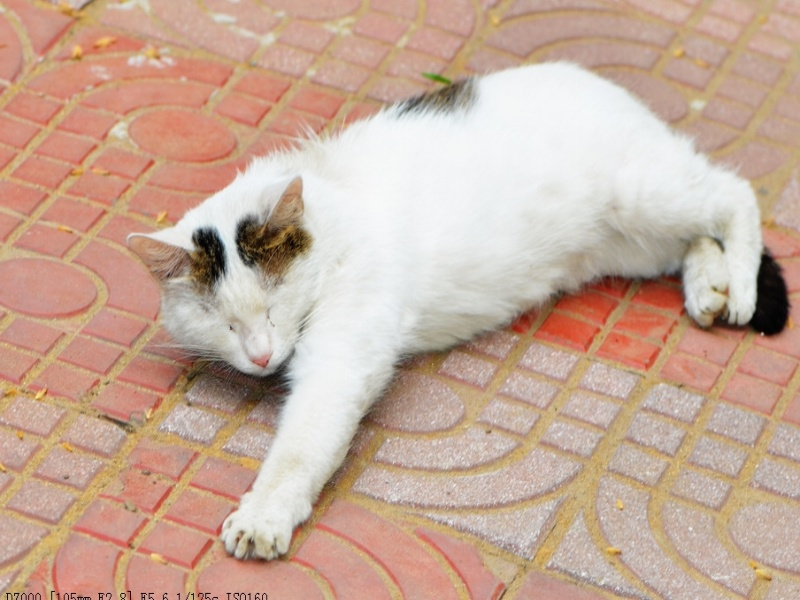cat: (125, 59, 790, 562)
